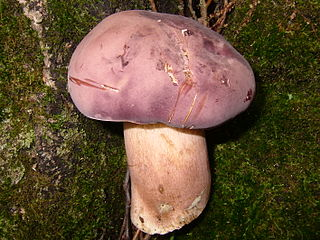boletus_poisinous: (55, 4, 278, 142)
